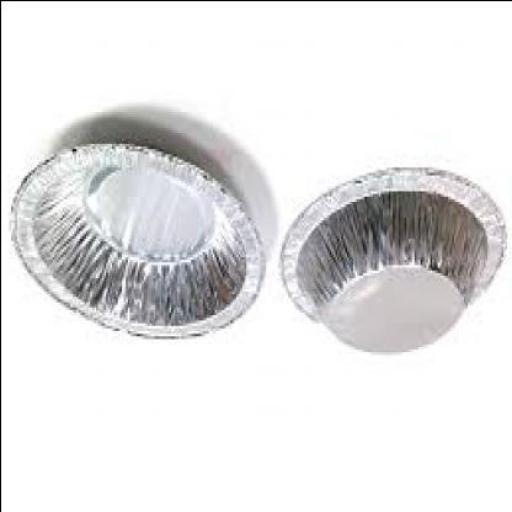metal: (12, 143, 266, 343), (280, 172, 510, 358)
